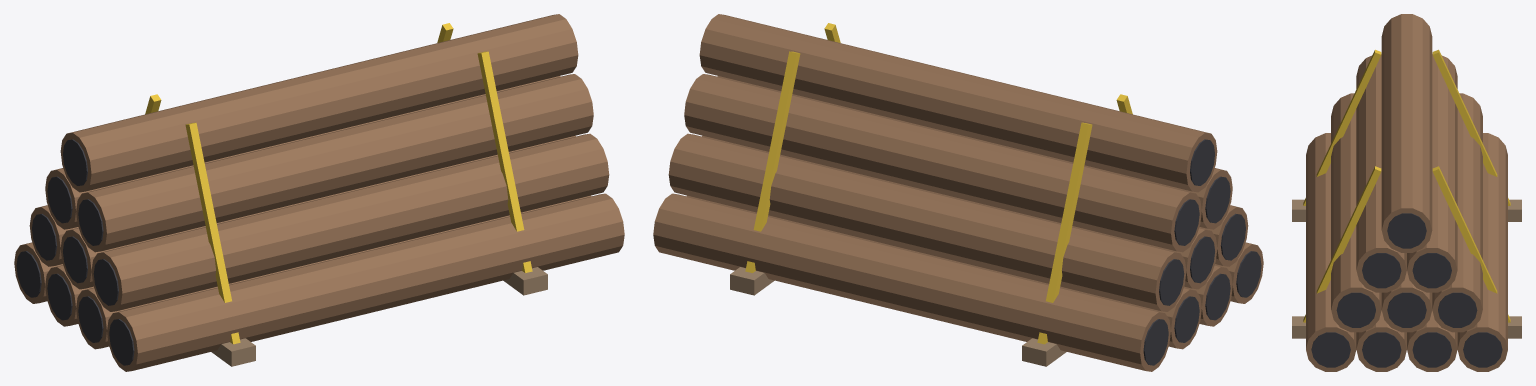
File: kit_pipe_stack.glb
3 views of the same model, side by side, from view 1: azimuth 30°, elevation 25°; view 2: azimuth 150°, elevation 25°; view 3: azimuth 270°, elevation 25° (orthographic). The views are drawn at different scales.
Parts seen in each view (by area): view 1: pipes, straps, chock, chock.001; view 2: pipes, straps, chock, chock.001; view 3: pipes, straps, chock.001, chock.
Part boxes in pixels (bbox=[...]): pipes: bbox=[14, 14, 624, 371]; straps: bbox=[145, 23, 532, 344]; chock: bbox=[211, 338, 255, 366]; chock.001: bbox=[503, 267, 547, 295]; pipes: bbox=[653, 14, 1263, 371]; straps: bbox=[745, 23, 1132, 344]; chock: bbox=[1022, 338, 1066, 366]; chock.001: bbox=[730, 267, 774, 295]; pipes: bbox=[1306, 14, 1507, 371]; straps: bbox=[1303, 49, 1510, 322]; chock.001: bbox=[1292, 316, 1521, 338]; chock: bbox=[1292, 199, 1521, 221].
Bounding box in the file's own units: 4.02 × 1.59 × 2.
